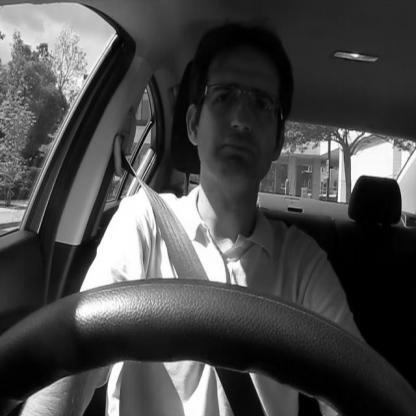seatbelt: (111, 17, 322, 280)
